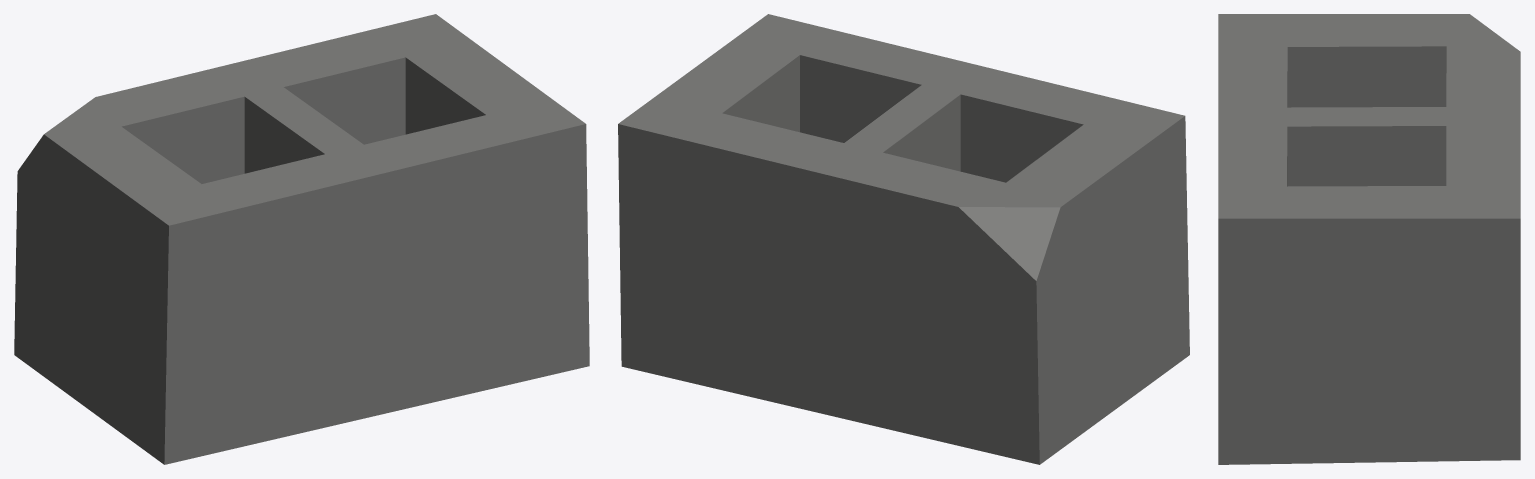
The model's file is SM_Prop_Cinderblock_01.fbx.
3 views of the same model, side by side, from view 1: azimuth 30°, elevation 25°; view 2: azimuth 150°, elevation 25°; view 3: azimuth 270°, elevation 25° (orthographic).
Visible parts, largest first — view 1: SM_Prop_Cinderblock_01; view 2: SM_Prop_Cinderblock_01; view 3: SM_Prop_Cinderblock_01.
Boxes of the visible parts, box(x1,y1,x2,y2) form: SM_Prop_Cinderblock_01: box(14, 14, 589, 464); SM_Prop_Cinderblock_01: box(618, 14, 1189, 464); SM_Prop_Cinderblock_01: box(1218, 14, 1520, 464).
Bounding box in the file's own units: 44.32 × 24.2 × 27.11.
